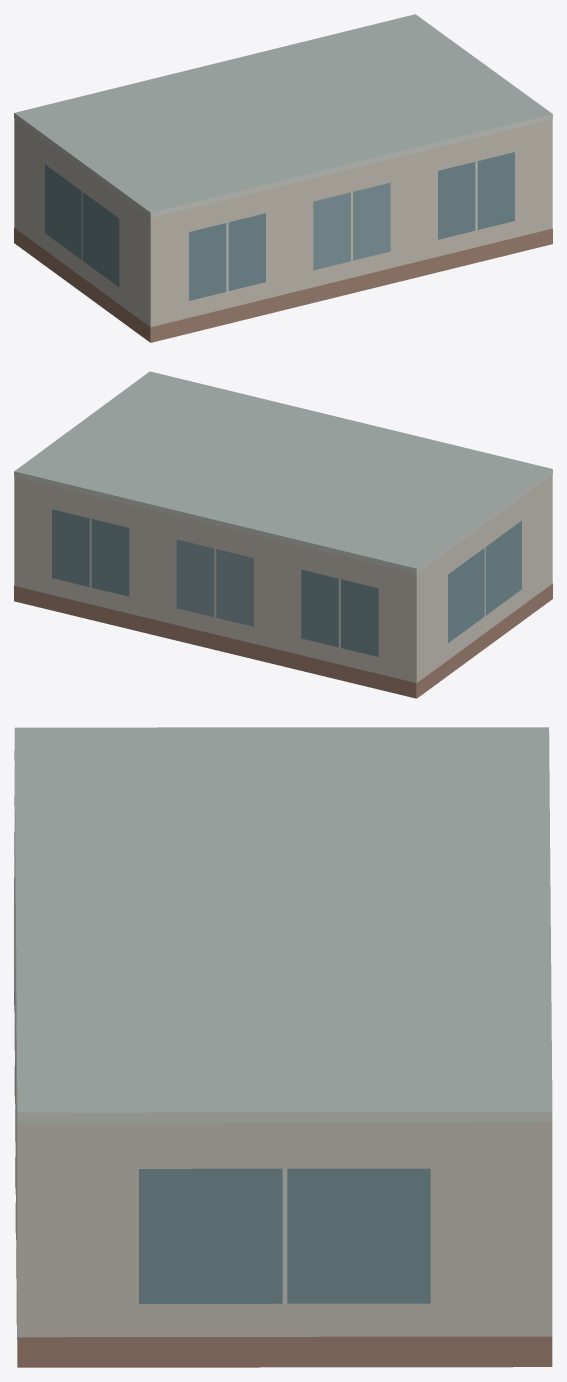
The model's file is survey-upis-32594944.glb.
3 views of the same model, one above another, from view 1: azimuth 30°, elevation 25°; view 2: azimuth 150°, elevation 25°; view 3: azimuth 270°, elevation 25° (orthographic). The views are drawn at different scales.
Visible parts, largest first — view 1: survey-upis-32594944.tmp; view 2: survey-upis-32594944.tmp; view 3: survey-upis-32594944.tmp.
Part boxes in pixels (x1,y1,x2,y2): survey-upis-32594944.tmp: (14, 14, 552, 342); survey-upis-32594944.tmp: (14, 371, 552, 698); survey-upis-32594944.tmp: (14, 727, 552, 1367).
Size of the model in its own units: 9.9 by 3.05 by 5.84.
